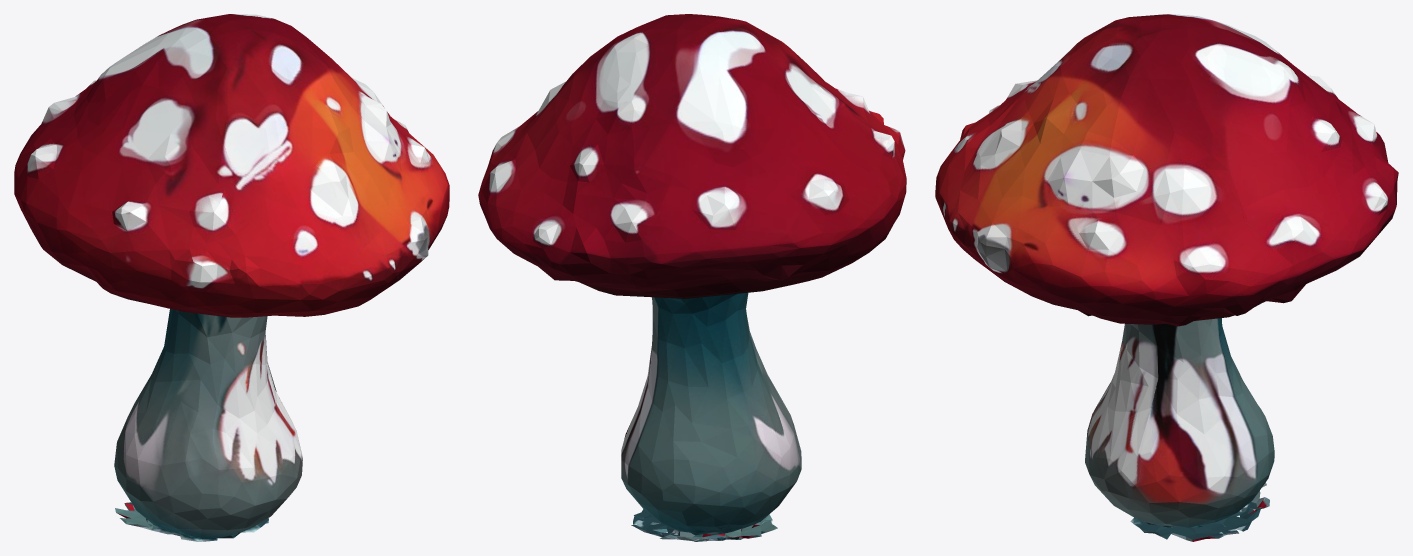
File: mushroom_item.glb
3 views of the same model, side by side, from view 1: azimuth 30°, elevation 25°; view 2: azimuth 150°, elevation 25°; view 3: azimuth 270°, elevation 25° (orthographic). The views are drawn at different scales.
Visible parts, largest first — view 1: tmp3l_a_co9.ply; view 2: tmp3l_a_co9.ply; view 3: tmp3l_a_co9.ply.
Part boxes in pixels (x1=…): tmp3l_a_co9.ply: x1=14, y1=14, x2=449, y2=541; tmp3l_a_co9.ply: x1=478, y1=14, x2=906, y2=541; tmp3l_a_co9.ply: x1=935, y1=14, x2=1398, y2=541.
Size of the model in its own units: 1.62 by 1.99 by 1.67.
1 material, 1 textured.
